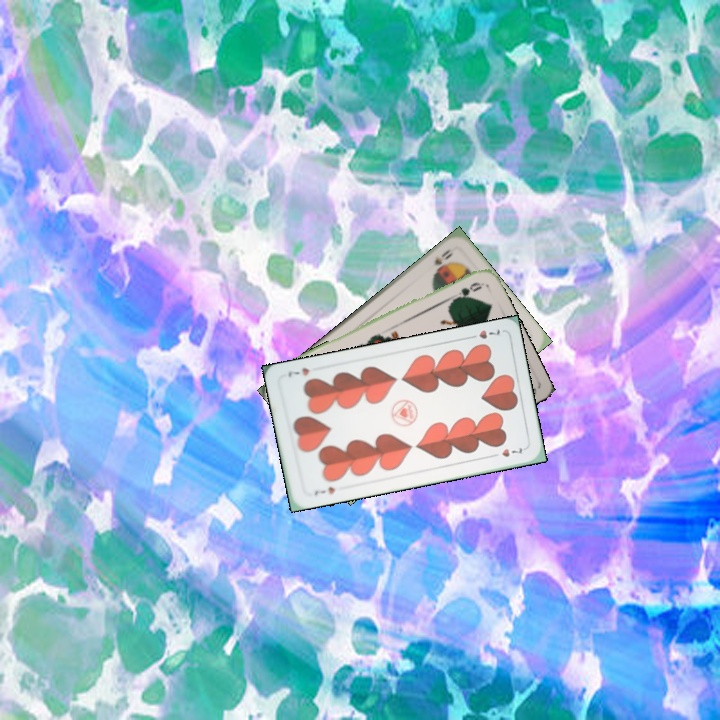GO: (446, 278, 484, 305)
H7: (464, 326, 503, 342), (310, 482, 337, 498)
SO: (430, 245, 457, 268)
